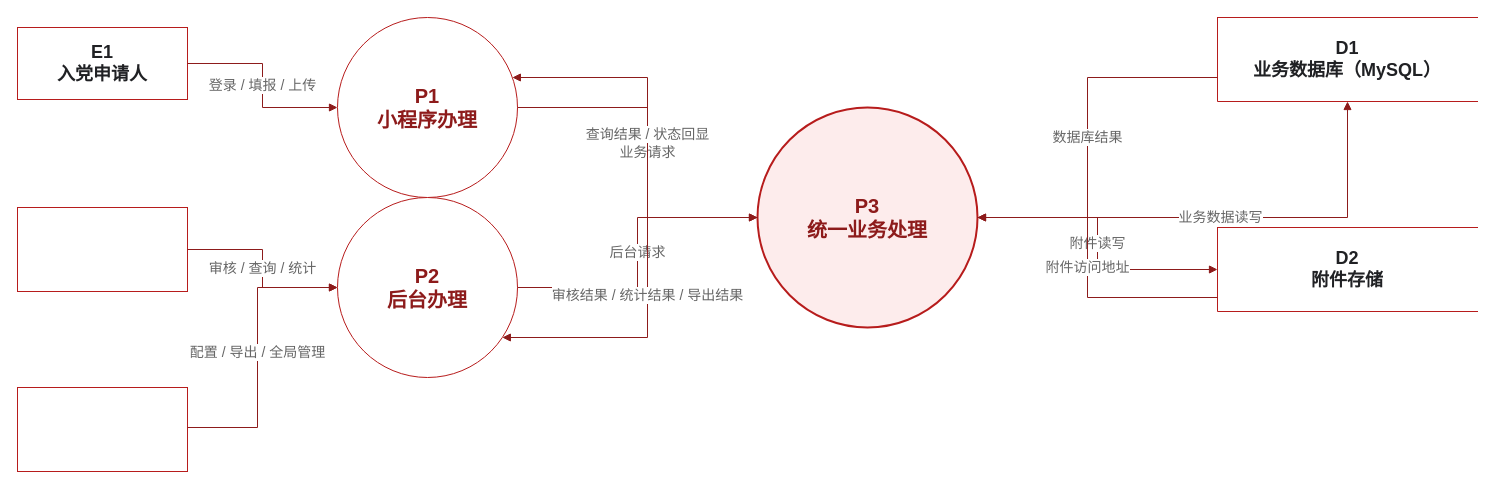
This 1495x489 diagram has some shape labels left out. Here are the shapes that lost their labels. From the top down, the centre of each, then its label:
the point at 102,249: E2 基层管理角色
the point at 102,429: E3 组织部 / 超级管理员
